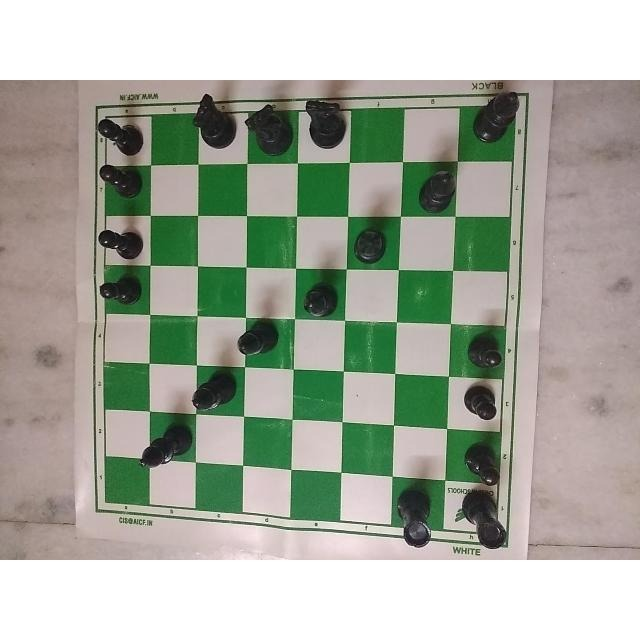black-bishop: (467, 84, 525, 152), (132, 421, 189, 476), (191, 372, 237, 416), (418, 166, 460, 214), (235, 317, 281, 358), (301, 282, 340, 322), (351, 223, 386, 263)
black-knight: (187, 88, 237, 150), (246, 100, 293, 158), (304, 94, 346, 150)
black-pawn: (87, 112, 151, 155), (458, 441, 504, 490), (457, 380, 507, 422), (98, 267, 144, 312), (93, 220, 143, 260), (469, 332, 510, 380), (96, 158, 141, 199)
black-rook: (396, 482, 440, 556), (456, 490, 508, 552)
